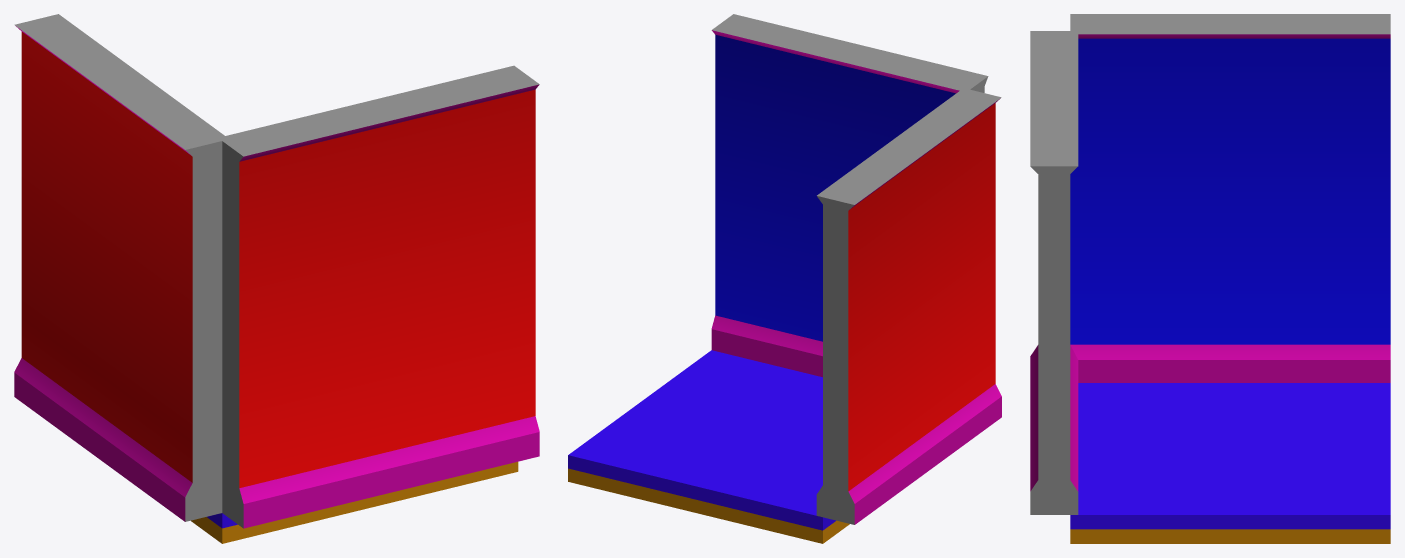
The picture shows the model from 3 angles, left to right: view 1: azimuth 30°, elevation 25°; view 2: azimuth 150°, elevation 25°; view 3: azimuth 270°, elevation 25°; orthographic projection. The views are drawn at different scales.
Visible parts, largest first — view 1: ModularWall001, ModularWall002, ModularFloor001; view 2: ModularWall002, ModularWall001, ModularFloor001; view 3: ModularWall002, ModularFloor001, ModularWall001.
Part boxes in pixels (left/top/right/bottom): ModularWall001: left=218, top=65, right=539, bottom=528; ModularWall002: left=14, top=14, right=224, bottom=521; ModularFloor001: left=191, top=461, right=518, bottom=543; ModularWall002: left=816, top=89, right=1001, bottom=524; ModularWall001: left=711, top=14, right=988, bottom=377; ModularFloor001: left=568, top=350, right=849, bottom=543; ModularWall002: left=1070, top=14, right=1390, bottom=382; ModularFloor001: left=1070, top=383, right=1390, bottom=543; ModularWall001: left=1030, top=31, right=1078, bottom=514.
Bounding box in the file's own units: 113 × 130 × 113.
